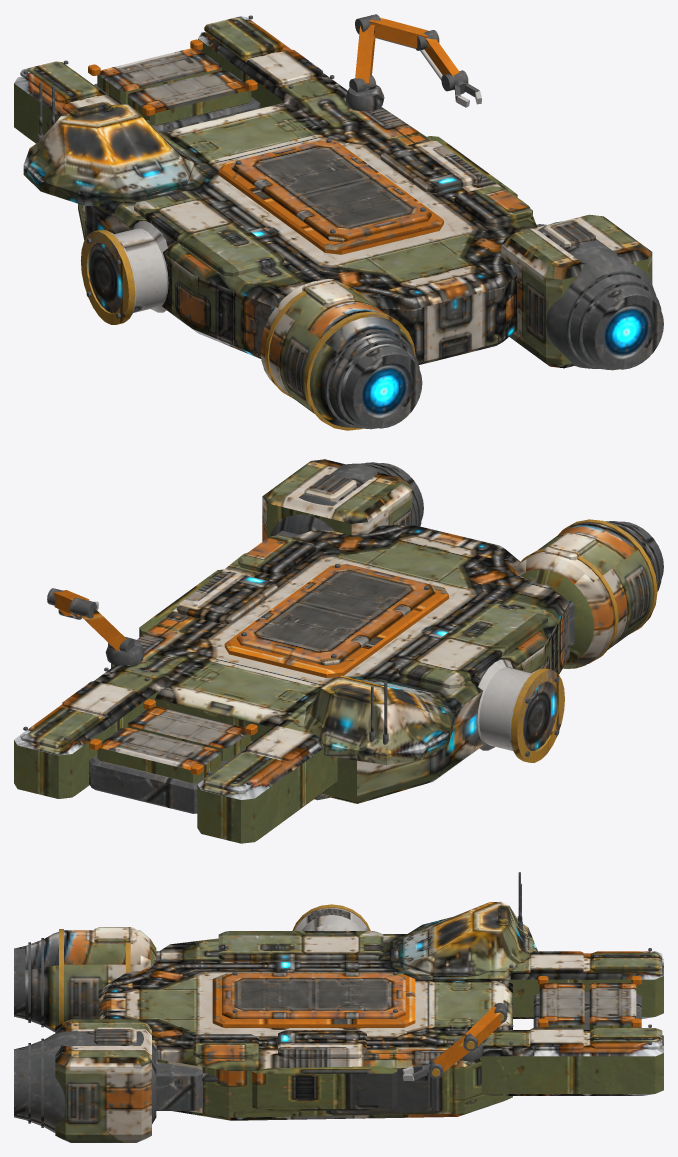
File: second-wind.glb
The picture shows the model from 3 angles, top to bottom: view 1: azimuth 30°, elevation 25°; view 2: azimuth 150°, elevation 25°; view 3: azimuth 270°, elevation 25°; orthographic projection. The views are drawn at different scales.
Visible parts, largest first — view 1: hull / Second Wind / painted hull and fittings, hull / Ventral / Second Wind; view 2: hull / Second Wind / painted hull and fittings, hull / Ventral / Second Wind; view 3: hull / Second Wind / painted hull and fittings, hull / Ventral / Second Wind.
Part boxes in pixels (x1,y1,x2,y2): hull / Second Wind / painted hull and fittings: (14,14,663,430); hull / Ventral / Second Wind: (21,34,574,427); hull / Second Wind / painted hull and fittings: (14,459,663,843); hull / Ventral / Second Wind: (25,556,643,840); hull / Second Wind / painted hull and fittings: (14,872,663,1139); hull / Ventral / Second Wind: (25,943,657,1142).
Bounding box in the file's own units: 12.79 × 4.63 × 19.82.
2 materials, 2 textured.
